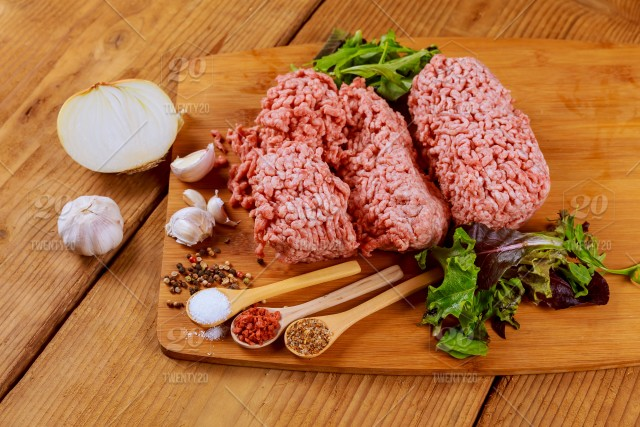ground_beef: (219, 61, 404, 258), (409, 31, 557, 235)
